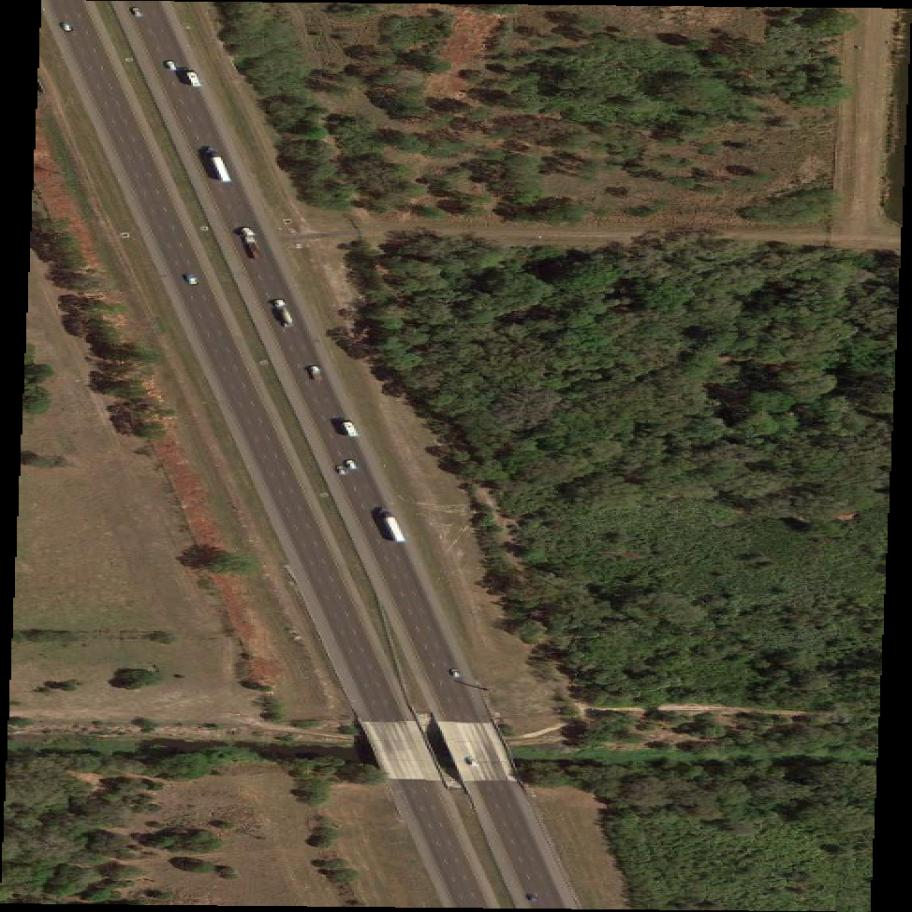large-vehicle: (204, 142, 236, 188), (376, 503, 408, 546), (273, 296, 298, 331), (180, 64, 206, 95), (303, 361, 326, 388), (337, 418, 358, 442)
small-vehicle: (56, 16, 78, 39), (125, 3, 150, 21), (448, 664, 465, 683), (182, 273, 202, 289), (165, 58, 182, 76), (339, 459, 361, 469), (331, 465, 352, 475), (526, 891, 541, 904), (464, 756, 481, 767)
